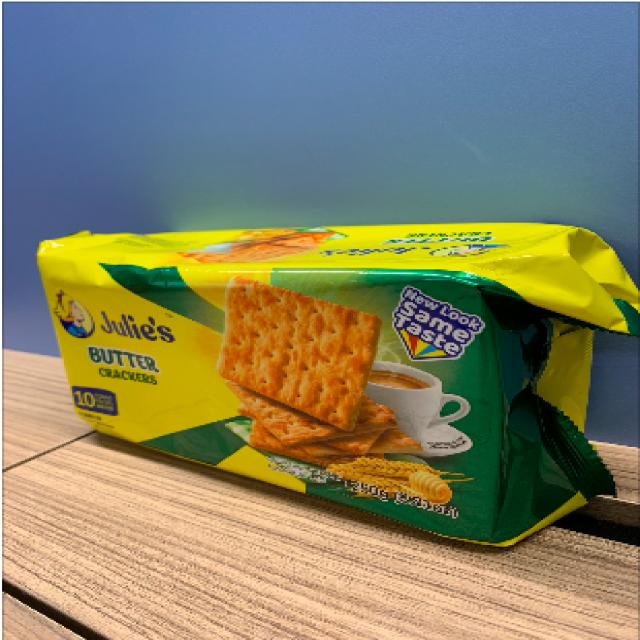object_name: (53, 237, 584, 502)
